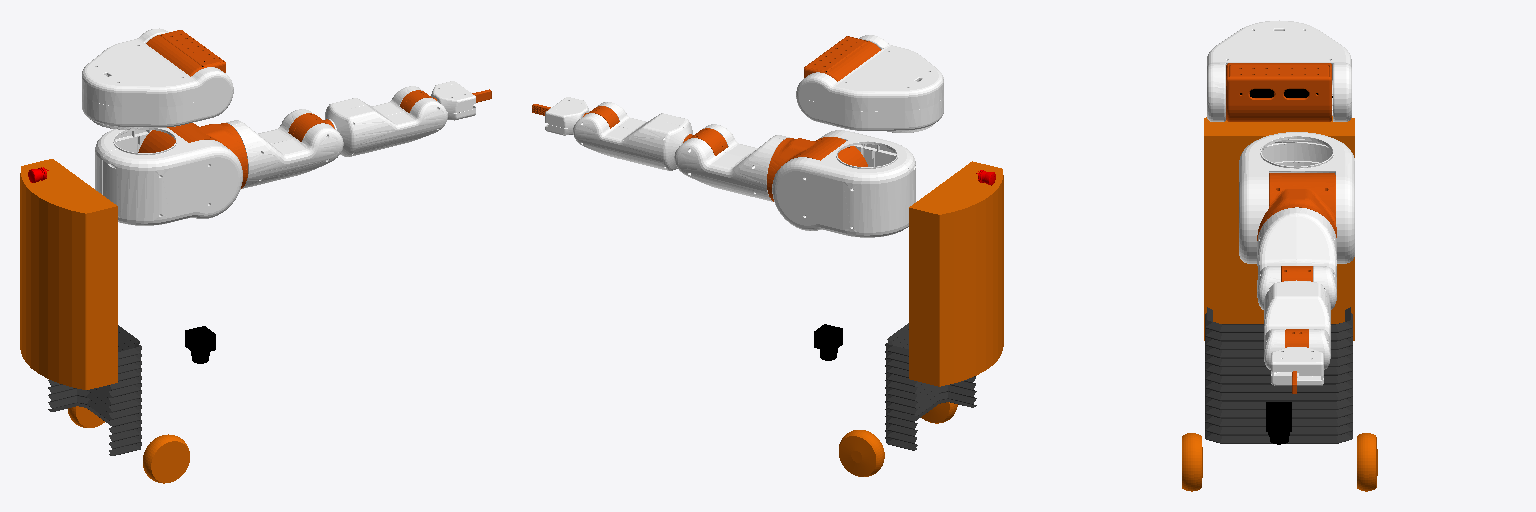
--- Render facts (derived) ---
Views: 3 orthographic renders of the robot side by side, from view 1: azimuth 30°, elevation 25°; view 2: azimuth 150°, elevation 25°; view 3: azimuth 270°, elevation 25°.
Model ubr1 with 27 links and 26 joints (7 revolute, 4 continuous, 4 prismatic, 11 fixed), rooted at base_link, posed all joints at 0.
Links seen in each view (by area): view 1: fixed_torso_link, shoulder_pan_link, head_pan_link, forearm_roll_link, bellows_link, upperarm_roll_link, shoulder_lift_link, head_tilt_link, right_wheel_link, gripper_link, base_laser_link, elbow_flex_link; view 2: fixed_torso_link, shoulder_pan_link, head_pan_link, forearm_roll_link, bellows_link, upperarm_roll_link, shoulder_lift_link, head_tilt_link, left_wheel_link, gripper_link, base_laser_link, elbow_flex_link; view 3: bellows_link, fixed_torso_link, shoulder_pan_link, head_pan_link, head_tilt_link, upperarm_roll_link, forearm_roll_link, shoulder_lift_link, gripper_link, right_wheel_link, left_wheel_link, base_laser_link.
Boxes of the visible links, <box> form: fixed_torso_link: <box>20,159,117,389</box>; shoulder_pan_link: <box>95,127,242,225</box>; head_pan_link: <box>82,28,233,129</box>; forearm_roll_link: <box>325,86,447,156</box>; bellows_link: <box>48,325,141,455</box>; upperarm_roll_link: <box>226,109,343,188</box>; shoulder_lift_link: <box>138,123,247,188</box>; head_tilt_link: <box>146,30,225,76</box>; right_wheel_link: <box>143,434,189,483</box>; gripper_link: <box>431,81,475,120</box>; base_laser_link: <box>185,326,215,363</box>; elbow_flex_link: <box>288,113,334,141</box>; fixed_torso_link: <box>909,161,1003,386</box>; shoulder_pan_link: <box>772,130,915,237</box>; head_pan_link: <box>796,35,943,132</box>; forearm_roll_link: <box>573,102,692,170</box>; bellows_link: <box>885,323,976,450</box>; upperarm_roll_link: <box>674,124,789,201</box>; shoulder_lift_link: <box>767,137,867,201</box>; head_tilt_link: <box>804,36,880,81</box>; left_wheel_link: <box>839,430,884,476</box>; gripper_link: <box>545,97,589,135</box>; base_laser_link: <box>814,324,842,360</box>; elbow_flex_link: <box>683,128,727,155</box>; bellows_link: <box>1205,307,1352,443</box>; fixed_torso_link: <box>1204,116,1354,340</box>; shoulder_pan_link: <box>1239,132,1354,263</box>; head_pan_link: <box>1207,20,1351,121</box>; head_tilt_link: <box>1226,63,1331,121</box>; upperarm_roll_link: <box>1257,207,1336,309</box>; forearm_roll_link: <box>1264,280,1330,369</box>; shoulder_lift_link: <box>1257,173,1336,240</box>; gripper_link: <box>1271,347,1323,385</box>; right_wheel_link: <box>1182,433,1202,491</box>; left_wheel_link: <box>1357,433,1377,491</box>; base_laser_link: <box>1266,402,1291,444</box>.
Size in the robot's own frame: 1.22 by 0.3811 by 0.9734 metres.
Meshes: 20 distinct files referenced, 18 mesh visuals loaded (17 binary STL); not drawn: 3 (reference not matched to a file when rendering).

robot.urdf — ubr1:
<?xml version="1.0" ?>
<robot name="ubr1">
  <link name="base_link">
    <visual>
      <origin rpy="0 0 0" xyz="0 0 0" />
      <geometry>
        <mesh filename="package://ubr1_description/meshes/base_link.STL" />
      </geometry>
      <material name="">
        <color rgba="1 1 1 1" />
      </material>
    </visual>
    <collision>
      <origin rpy="0 0 0" xyz="-0.2475 -0.2475 0" />
      <geometry>
        <mesh filename="package://ubr1_description/meshes/base_link_col.STL" />
      </geometry>
    </collision>
  </link>
  <link name="base_inertia">
    <!-- Hack around KDL issues -->
    <inertial>
      <origin rpy="0 0 0" xyz="0.0043027 -0.0000947 0.1492788" />
      <mass value="35.0237183" />
      <inertia ixx="0.2749377" ixy="-0.0002025" ixz="-0.0013661"
               iyy="0.2398372" iyz="-0.0004900"
               izz="5.3671008"/>
    </inertial>
  </link>
  <joint name="base_inertia_joint" type="fixed">
    <origin rpy="0 0 0" xyz="0 0 0" />
    <parent link="base_link" />
    <child link="base_inertia" />
  </joint>
  <link name="torso_lift_link">
    <inertial>
      <origin rpy="0 0 0" xyz="-0.060142360276412 0.00304133533168627 0.343272867034157" />
      <mass value="10.81628746254819" />
      <inertia ixx="0.0641960264706125" ixy="0.001128617953499" ixz="0.00203364821006436" iyy="0.061658561971383" iyz="-3.14401755382909E-05" izz="0.0376084656328484" />
    </inertial>
    <visual>
      <origin rpy="0 0 0" xyz="0 0 0" />
      <geometry>
        <mesh filename="package://ubr1_description/meshes/torso_lift_link.STL" />
      </geometry>
      <material name="">
        <color rgba="1 1 1 1" />
      </material>
    </visual>
    <collision>
      <origin rpy="0 0 0" xyz="0 -.02 0" />
      <geometry>
        <mesh filename="package://ubr1_description/meshes/torso_lift_link_col.STL" />
      </geometry>
    </collision>
  </link>
  <joint name="torso_lift_joint" type="prismatic">
    <origin rpy="2.4652E-32 0 0" xyz="-0.051533 0 0.26428" />
    <parent link="base_link" />
    <child link="torso_lift_link" />
    <axis xyz="0 0 1" />
    <limit effort="450" lower="0.0" upper="0.3556" velocity="0.1" />
    <calibration rising="0.0" />
    <dynamics damping="1000" />
  </joint>
  <link name="shoulder_pan_link">
    <inertial>
      <inertia ixx="0.04593" ixy="-0.00259" ixz="-3e-05" iyy="0.03667" iyz="-0.00031" izz="0.04858" />
      <mass value="6.39321" />
      <origin rpy="0.0 0.0 0.0" xyz="0.01775 -0.00868 -0.00471" />
    </inertial>
    <visual>
      <origin rpy="0 0 0" xyz="0 0 0" />
      <geometry>
        <mesh filename="package://ubr1_description/meshes/shoulder_pan_link.STL" />
      </geometry>
      <material name="">
        <color rgba="1 1 1 1" />
      </material>
    </visual>
    <collision>
      <origin rpy="0 0 0" xyz="0.0 0 0" />
      <geometry>
        <mesh filename="package://ubr1_description/meshes/shoulder_pan_link_col.STL" />
      </geometry>
    </collision>
  </link>
  <joint name="shoulder_pan_joint" type="revolute">
    <origin rpy="-2.4652E-32 0 0" xyz="0.11446 0.035 0.39613" />
    <parent link="torso_lift_link" />
    <child link="shoulder_pan_link" />
    <axis xyz="0 0 1" />
    <limit effort="6.712" lower="-1.3962634" upper="1.3962634" velocity="1.30899694" />
    <calibration rising="0.0" />
    <dynamics damping="0.7" />
  </joint>
  <link name="shoulder_lift_link">
    <inertial>
      <inertia ixx="0.01193" ixy="0.00013" ixz="-0.00026" iyy="0.00932" iyz="4e-05" izz="0.01415" /><mass value="3.57781" /><origin rpy="0.0 0.0 0.0" xyz="0.01595 0.01107 -0.01047" /></inertial>
    <visual>
      <origin rpy="0 0 0" xyz="0 0 0" />
      <geometry>
        <mesh filename="package://ubr1_description/meshes/shoulder_lift_link.STL" />
      </geometry>
      <material name="">
        <color rgba="0.874509803921569 0.352941176470588 0.0470588235294118 1" />
      </material>
    </visual>
    <collision>
      <origin rpy="0 0 0" xyz="0.0 0 0" />
      <geometry>
        <mesh filename="package://ubr1_description/meshes/shoulder_lift_link_col.STL" />
      </geometry>
    </collision>
  </link>
  <joint name="shoulder_lift_joint" type="revolute">
    <origin rpy="0 0 0" xyz="0.11 0 0" />
    <parent link="shoulder_pan_link" />
    <child link="shoulder_lift_link" />
    <axis xyz="0 1 0" />
    <limit effort="37.802" lower="-0.785398163" upper="1.34390352" velocity="1.30899694" />
    <calibration rising="0.0" />
    <dynamics damping="0.7" />
  </joint>
  <link name="upperarm_roll_link">
    <inertial>
      <origin rpy="0.0 0.0 0.0" xyz="0.08552 -0.00001 -0.00997" />
      <inertia ixx="0.00618" ixy="-0.00015" ixz="0.00105" iyy="0.01931" iyz="0.0" izz="0.02107" />
      <mass value="2.59549" />
    </inertial>
    <visual>
      <origin rpy="0 0 0" xyz="0 0 0" />
      <geometry>
        <mesh filename="package://ubr1_description/meshes/upperarm_roll_link.STL" />
      </geometry>
      <material name="">
        <color rgba="1 1 1 1" />
      </material>
    </visual>
    <collision>
      <origin rpy="0 0 0" xyz="0 0 -0.08" />
      <geometry>
        <mesh filename="package://ubr1_description/meshes/upperarm_roll_link_col.STL" />
      </geometry>
    </collision>
  </link>
  <joint name="upperarm_roll_joint" type="revolute">
    <origin rpy="0 0 0" xyz="0.11545 0 0" />
    <parent link="shoulder_lift_link" />
    <child link="upperarm_roll_link" />
    <axis xyz="1 0 0" />
    <limit effort="12.97" lower="-3.92699082" upper="0.785398163" velocity="2.0943951" />
    <calibration rising="0.0" />
    <dynamics damping="0.7" />
  </joint>
  <link name="elbow_flex_link">
    <inertial>
      <inertia ixx="0.00134" ixy="1e-05" ixz="-1e-05" iyy="0.00135" iyz="0.0" izz="0.00214" />
      <mass value="1.18183" />
      <origin rpy="0.0 0.0 0.0" xyz="-0.01618 0.00090 0.00033" />
    </inertial>
    <visual>
      <origin rpy="0 0 0" xyz="0 0 0" />
      <geometry>
        <mesh filename="package://ubr1_description/meshes/elbow_flex_link.STL" />
      </geometry>
      <material name="">
        <color rgba="0.874509803921569 0.352941176470588 0.0470588235294118 1" />
      </material>
    </visual>
    <collision>
      <origin rpy="1.57 0 0" xyz="0.0 0 0" />
      <geometry>
        <cylinder length="0.05" radius="0.045"/>
      </geometry>
    </collision>
  </link>
  <joint name="elbow_flex_joint" type="revolute">
    <origin rpy="0 0 0" xyz="0.20955 0 0" />
    <parent link="upperarm_roll_link" />
    <child link="elbow_flex_link" />
    <axis xyz="0 1 0" />
    <limit effort="13.518" lower="-2.0943951" upper="0.0" velocity="1.30899694" />
    <calibration rising="0.0" />
    <dynamics damping="0.7" />
  </joint>
  <link name="forearm_roll_link">
    <inertial>
      <inertia ixx="0.00215" ixy="-3e-05" ixz="-0.00018" iyy="0.00589" iyz="0.0" izz="0.00659" />
      <mass value="1.61673" />
      <origin rpy="0.0 0.0 0.0" xyz="0.10890 -0.00049 -0.01352" />
    </inertial>
    <visual>
      <origin rpy="0 0 0" xyz="0 0 0" />
      <geometry>
        <mesh filename="package://ubr1_description/meshes/forearm_roll_link.STL" />
      </geometry>
      <material name="">
        <color rgba="1 1 1 1" />
      </material>
    </visual>
    <collision>
      <!--<origin rpy="0 0 0" xyz="0.14 0 -0.005" />
      <geometry>
        <box size="0.275 0.15 0.10"/>
      </geometry>-->
      <origin rpy="0 0 0" xyz="0 0 0" />
      <geometry>
        <mesh filename="package://ubr1_description/meshes/forearm_roll_link_col.STL" />
      </geometry>
    </collision>
  </link>
  <joint name="forearm_roll_joint" type="continuous">
    <origin rpy="0 0 0" xyz="0.0455000000000001 0 0" />
    <parent link="elbow_flex_link" />
    <child link="forearm_roll_link" />
    <axis xyz="1 0 0" />
    <limit effort="3.166" velocity="2.0943951" />
    <calibration rising="0.0" />
    <dynamics damping="0.7" />
  </joint>
  <link name="wrist_flex_link">
    <inertial>
      <inertia ixx="0.00028" ixy="0.0" ixz="0.0" iyy="0.00018" iyz="0.0" izz="0.00032" />
      <mass value="0.46911" />
      <origin rpy="0.0 0.0 0.0" xyz="0.00360 -0.00013 0.00004" />
    </inertial>
    <visual>
      <origin rpy="0 0 0" xyz="0 0 0" />
      <geometry>
        <mesh filename="package://ubr1_description/meshes/wrist_flex_link.STL" />
      </geometry>
      <material name="">
        <color rgba="0.874509803921569 0.352941176470588 0.0470588235294118 1" />
      </material>
    </visual>
    <collision>
      <origin rpy="1.57 0 0" xyz="0.0 0 0" />
      <geometry>
        <cylinder length="0.05" radius="0.04125"/>
      </geometry>
    </collision>
  </link>
  <joint name="wrist_flex_joint" type="revolute">
    <origin rpy="0 0 0" xyz="0.2345 0 0" />
    <parent link="forearm_roll_link" />
    <child link="wrist_flex_link" />
    <axis xyz="0 1 0" />
    <limit effort="4.543" lower="-2.26892803" upper="0.0" velocity="2.0943951" />
    <calibration rising="0.0" />
    <dynamics damping="0.7" />
  </joint>
  <link name="wrist_roll_link">
    <!--<inertial>
      <origin rpy="0 0 0" xyz="0 0 0" />
      <mass value="0.01" />
      <inertia ixx="0.000002"  ixy="0"  ixz="0"
               iyy="0.00004"  iyz="0"
               izz="0.00004" />
    </inertial>-->
    <visual>
      <origin rpy="0 1.57 0" xyz="0 0 0" />
      <geometry>
        <cylinder length="0.05" radius="0.02"/>
      </geometry>
      <material name="">
        <color rgba="1 1 1 1" />
      </material>
    </visual>
    <collision>
      <origin rpy="0 1.57 0" xyz="0.0 0.0 0" />
      <geometry>
        <cylinder length="0.05" radius="0.02"/>
      </geometry>
    </collision>
  </link>
  <joint name="wrist_roll_joint" type="continuous">
    <origin rpy="0 0 0" xyz="0.0406 0 0" />
    <parent link="wrist_flex_link" />
    <child link="wrist_roll_link" />
    <axis xyz="1 0 0" />
    <limit effort="1.0" velocity="2.0943951" />
    <calibration rising="0.0" />
    <dynamics damping="0.7" />
  </joint>

  <link name="head_pan_link">
    <inertial>
      <origin rpy="0 0 0" xyz="0.03590 -0.02334 -0.00837" />
      <mass value="2.83708" />
      <inertia ixx="0.01624779629"  ixy="-0.00016395194"  ixz="0.00001236518"
               iyy="0.01221529906"  iyz="0.00044617693"
               izz="0.02259698742" />
    </inertial>
    <visual>
      <origin rpy="0 0 0" xyz="0 0 0" />
      <geometry>
        <mesh filename="package://ubr1_description/meshes/head_pan_link.STL" />
      </geometry>
      <material name="">
        <color rgba="1 1 1 1" />
      </material>
    </visual>
    <collision>
      <origin rpy="0 0 0" xyz="0.06 0 0.01" />
      <geometry>
        <box size="0.30 0.29 0.11"/>
      </geometry>
    </collision>
  </link>
  <joint name="head_pan_joint" type="revolute">
    <origin rpy="-2.46519032881566E-32 0 0" xyz="0.0388331045334431 0 0.643775" />
    <parent link="torso_lift_link" />
    <child link="head_pan_link" />
    <axis xyz="0 0 1" />
    <limit effort="8.55" lower="-1.57079633" upper="1.57079633" velocity="1.18682389" />
    <calibration rising="0.0" />
    <dynamics damping="0.7" />
  </joint>
  <link name="head_tilt_link">
    <inertial>
      <origin rpy="0 0 0" xyz="0.03670 -0.00247 0.04661" />
      <mass value="1.33203" />
      <inertia ixx="0.00792164189"  ixy="0.00056884845"   ixz="0.00186657783"
               iyy="0.00520291759"  iyz="0.00082595410"
               izz="0.00625497628" />
    </inertial>
    <visual>
      <origin rpy="0 0 0" xyz="0 0 0" />
      <geometry>
        <mesh filename="package://ubr1_description/meshes/head_tilt_link.STL" />
      </geometry>
      <material name="">
        <color rgba="0.874509803921569 0.352941176470588 0.0470588235294118 1" />
      </material>
    </visual>
    <collision>
      <origin rpy="0 0 0" xyz="0 0 0" />
      <geometry>
        <box size="0.10 0.29 0.10"/>
      </geometry>
    </collision>
  </link>
  <joint name="head_tilt_joint" type="revolute">
    <origin rpy="0 0 0" xyz="0.1524 0 0.0073" />
    <parent link="head_pan_link" />
    <child link="head_tilt_link" />
    <axis xyz="0 1 0" />
    <limit effort="7.6" lower="-0.785398163" upper="1.57079633" velocity="1.18682389" />
    <calibration rising="0.0" />
    <dynamics damping="0.7" />
  </joint>
  <link name="head_camera_link">
    <inertial>
      <origin rpy="0 0 0" xyz="0.00178948803750542 0.00293228933526682 -0.00126569018604761" />
      <mass value="0.15791194679459" />
      <inertia ixx="0.000410373133213838" ixy="-4.65746959126115E-06" ixz="1.54869804665117E-06"
               iyy="2.66787966300267E-05" iyz="-8.80223403267447E-06"
               izz="0.000415197483134736" />
    </inertial>
    <visual>
      <origin rpy="0 0 0" xyz="0 0 0" />
      <geometry>
        <mesh filename="package://ubr1_description/meshes/head_camera_link.STL" />
      </geometry>
      <material name="">
        <color rgba="0 0 0 1" />
      </material>
    </visual>
    <collision>
      <origin rpy="0 0 0" xyz="0.0 0.0 0" />
      <geometry>
        <box size="0.01 0.01 0.01"/>
      </geometry>
    </collision>
  </link>
  <joint name="head_camera_joint" type="fixed">
    <origin rpy="0 0 0" xyz="0.03475 0 0.022877" />
    <parent link="head_tilt_link" />
    <child link="head_camera_link" />
    <axis xyz="0 0 0" />
  </joint>

  <link name="head_camera_rgb_frame" />
  <joint name="head_camera_rgb_joint" type="fixed">
    <origin xyz="0.02 0.02 0" rpy="0 0 0"/>
    <parent link="head_camera_link" />
    <child link="head_camera_rgb_frame" />
  </joint>

  <link name="head_camera_rgb_optical_frame" />
  <joint name="head_camera_rgb_optical_joint" type="fixed">
    <origin xyz="0 0 0" rpy="-1.57079632679 0 -1.57079632679" />
    <parent link="head_camera_rgb_frame" />
    <child link="head_camera_rgb_optical_frame" />
  </joint>

  <link name="head_camera_depth_frame" />
  <joint name="head_camera_depth_joint" type="fixed">
    <origin xyz="0.02 0.045 0" rpy="0 0 0" />
    <parent link="head_camera_link" />
    <child link="head_camera_depth_frame" />
  </joint>

  <link name="head_camera_depth_optical_frame" />
  <joint name="head_camera_depth_optical_joint" type="fixed">
    <origin xyz="0 0 0" rpy="-1.57079632679 0 -1.57079632679" />
    <parent link="head_camera_depth_frame" />
    <child link="head_camera_depth_optical_frame" />
  </joint>

  <link name="estop_link">
    <inertial>
      <origin rpy="0 0 0" xyz="-6.39117272993595E-09 1.30867278759217E-05 0.0263084007038297" />
      <mass value="0.00196130439130725" />
      <inertia ixx="3.14705392512728E-07" ixy="-4.08544353458379E-12" ixz="2.20397665051664E-13"
               iyy="3.14452534479207E-07" iyz="-4.49188364721138E-10"
               izz="1.95488289214464E-07" />
    </inertial>
    <visual>
      <origin rpy="0 0 0" xyz="0 0 0" />
      <geometry>
        <mesh filename="package://ubr1_description/meshes/estop_link.STL" />
      </geometry>
      <material name="">
        <color rgba="1 0 0 1" />
      </material>
    </visual>
    <collision>
      <origin rpy="0 0 0" xyz="0.0 0.0 0" />
      <geometry>
        <box size="0.01 0.01 0.01"/>
      </geometry>
    </collision>
  </link>
  <joint name="estop_joint" type="fixed">
    <origin rpy="1.5708 -0.047415 -1.5708" xyz="-0.15995 0 0.4859" />
    <parent link="torso_lift_link" />
    <child link="estop_link" />
    <axis xyz="0 0 1" />
  </joint>
  <link name="bellows_link">
    <inertial>
      <origin rpy="0 0 0" xyz="-4.95346061296346E-08 0.123400904659858 0.0107781507059864" />
      <mass value="0.1" />
      <inertia ixx="0.000408561556131289" ixy="3.9348438720509E-09" ixz="2.76652370410412E-11"
               iyy="0.000721553598298091" iyz="3.35031527267575E-07"
               izz="0.00103695967363802" />
    </inertial>
    <visual>
      <origin rpy="0 0 0" xyz="0 0 0" />
      <geometry>
        <mesh filename="package://ubr1_description/meshes/bellows_link.STL" />
      </geometry>
      <material name="">
        <color rgba="0.250980392156863 0.250980392156863 0.250980392156863 1" />
      </material>
    </visual>
    <collision>
      <origin rpy="0 0 0" xyz="0.0 0.0 0" />
      <geometry>
        <box size="0.01 0.01 0.01"/>
      </geometry>
    </collision>
  </link>
  <joint name="bellows_joint" type="prismatic">
    <origin rpy="1.5708 -2.4652E-32 -1.5708" xyz="0.0047367 0 -0.1823" />
    <parent link="torso_lift_link" />
    <child link="bellows_link" />
    <axis xyz="0 1 0" />
    <limit effort="25.0" lower="-0.1778" upper="0.0" velocity="0.0" />
    <calibration rising="0.0" />
    <dynamics damping="0.7" />
  </joint>
  <link name="fixed_bellows_link">
    <inertial>
      <origin rpy="0 0 0" xyz="-4.95346056930955E-08 0.123400904659858 0.0107781507059864" />
      <mass value="0.0636200134411883" />
      <inertia ixx="0.000408561556131288" ixy="3.93484387266685E-09" ixz="2.76652374600841E-11"
               iyy="0.000721553598298089" iyz="3.35031527267454E-07"
               izz="0.00103695967363802" />
    </inertial>
    <visual>
      <origin rpy="0 0 0" xyz="0 0 0" />
      <geometry>
        <mesh filename="package://ubr1_description/meshes/bellows_link.STL" />
      </geometry>
      <material name="">
        <color rgba="0.250980392156863 0.250980392156863 0.250980392156863 1" />
      </material>
    </visual>
    <collision>
      <origin rpy="0 0 0" xyz="0.0 0.0 0" />
      <geometry>
        <box size="0.01 0.01 0.01"/>
      </geometry>
    </collision>
  </link>
  <joint name="fixed_bellows_joint" type="fixed">
    <origin rpy="1.5708 -2.4652E-32 -1.5708" xyz="0.0047367 0 -0.1823" />
    <parent link="torso_lift_link" />
    <child link="fixed_bellows_link" />
  </joint>
  <link name="fixed_torso_link">
    <inertial>
      <origin rpy="0 0 0" xyz="0.12118 0.55187 -0.00188" />
      <mass value="7.19400" />
      <inertia ixx="0.16941095831" ixy="-0.00114443001"   ixz="0.00090167218"
               iyy="0.15113888533" iyz="-0.00744737659"
               izz="0.04165307088" />
    </inertial>
    <visual>
      <origin rpy="0 0 0" xyz="0 0 0" />
      <geometry>
        <mesh filename="package://ubr1_description/meshes/fixed_torso_link.STL" />
      </geometry>
      <material name="">
        <color rgba="0.909803921568627 0.443137254901961 0.0313725490196078 1" />
      </material>
    </visual>
    <collision>
      <origin rpy="0 0 0" xyz="0.13 0.45 0" />
      <geometry>
        <box size="0.20 0.40 0.32"/>
      </geometry>
    </collision>
  </link>
  <joint name="fixed_torso_joint" type="fixed">
    <origin rpy="1.5708 0 3.1416" xyz="0 0 0" />
    <parent link="base_link" />
    <child link="fixed_torso_link" />
    <axis xyz="0 0 0" />
  </joint>
  <link name="right_wheel_link">
    <inertial>
      <origin rpy="0 0 0" xyz="-1.64014810163652E-10 0.00025233203864472 -2.77555756156289E-17" />
      <mass value="0.680549565836583" />
      <inertia ixx="0.000516152001969145" ixy="2.81654304441038E-14" ixz="-1.48432572797365E-22"
               iyy="0.000867209455065921" iyz="-1.17328198292256E-12"
               izz="0.000516152001737231" />
    </inertial>
    <visual>
      <origin rpy="0 0 0" xyz="0 0 0" />
      <geometry>
        <mesh filename="package://ubr1_description/meshes/right_wheel_link.STL" />
      </geometry>
      <material name="">
        <color rgba="0.909803921568627 0.443137254901961 0.0313725490196078 1" />
      </material>
    </visual>
    <collision>
      <origin rpy="1.57 0 0" xyz="0 0 0" />
      <geometry>
        <cylinder length="0.03" radius="0.06"/>
      </geometry>
    </collision>
  </link>
  <joint name="base_r_wheel_joint" type="continuous">
    <origin rpy="0 0 0" xyz="0 -0.17 0.05675" />
    <parent link="base_link" />
    <child link="right_wheel_link" />
    <axis xyz="0 1 0" />
    <limit effort="12.0" velocity="20.0" />
    <calibration rising="0.0" />
    <dynamics damping="0.5" />
  </joint>
  <link name="left_wheel_link">
    <inertial>
      <origin rpy="0 0 0" xyz="-1.64014810154732E-10 0.000252332038644693 -2.77555756156289E-17" />
      <mass value="0.680549565836583" />
      <inertia ixx="0.000516152001969145" ixy="2.81654302730693E-14" ixz="-1.39880007920223E-22"
               iyy="0.000867209455065921" iyz="-1.17328198291752E-12"
               izz="0.000516152001737231" />
    </inertial>
    <visual>
      <origin rpy="0 0 0" xyz="0 0 0" />
      <geometry>
        <mesh filename="package://ubr1_description/meshes/left_wheel_link.STL" />
      </geometry>
      <material name="">
        <color rgba="0.909803921568627 0.443137254901961 0.0313725490196078 1" />
      </material>
    </visual>
    <collision>
      <origin rpy="1.57 0 0" xyz="0 0 0" />
      <geometry>
        <cylinder length="0.03" radius="0.06"/>
      </geometry>
    </collision>
  </link>
  <joint name="base_l_wheel_joint" type="continuous">
    <origin rpy="0 0 0" xyz="0 0.17 0.05675" />
    <parent link="base_link" />
    <child link="left_wheel_link" />
    <axis xyz="0 1 0" />
    <limit effort="12.0" velocity="20.0" />
    <calibration rising="0.0" />
    <dynamics damping="0.5" />
  </joint>
  <link name="base_laser_link">
    <inertial>
      <origin rpy="0 0 0" xyz="-2.77555756156289E-17 2.24932874362996E-18 0.0202675371573463" />
      <mass value="0.13945214558184" />
      <inertia ixx="7.38616097495533E-05" ixy="3.43625778332246E-08" ixz="1.18982532649698E-21"
               iyy="7.38616097495533E-05" iyz="2.6318307602024E-21"
               izz="5.02435312332874E-05" />
    </inertial>
    <visual>
      <origin rpy="-3.14159265359 0 0" xyz="0 0 0" />
      <geometry>
        <mesh filename="package://ubr1_description/meshes/base_laser_link.STL" />
      </geometry>
      <material name="">
        <color rgba="0 0 0 1" />
      </material>
    </visual>
    <collision>
      <origin rpy="0 0 0" xyz="0.0 0.0 0" />
      <geometry>
        <box size="0.01 0.01 0.01"/>
      </geometry>
    </collision>
  </link>
  <joint name="base_laser_joint" type="fixed">
    <origin rpy="3.14159265359 0 -2.2204E-16" xyz="0.18683 0 0.21048" />
    <parent link="base_link" />
    <child link="base_laser_link" />
    <axis xyz="0 0 0" />
  </joint>


  <!-- default gripper -->
  <link name="gripper_link">
    <inertial>
      <inertia ixx="0.00039" ixy="0.0" ixz="0.0" iyy="0.00039" iyz="-1e-05" izz="0.00066" />
      <mass value="0.4218" />
      <origin rpy="0.0 0.0 0.0" xyz="0.04724 0.00159 0.00064" />
    </inertial>
    <visual>
      <origin rpy="0 0 0" xyz="0 0 0" />
      <geometry>
        <mesh filename="package://ubr1_description/meshes/gripper_link.STL" />
      </geometry>
      <material name="">
        <color rgba="1 1 1 1" />
      </material>
    </visual>
    <collision>
      <origin rpy="0 0 0" xyz="0 0 0" />
      <geometry>
        <mesh filename="package://ubr1_description/meshes/gripper_link_col.STL" />
      </geometry>
    </collision>
  </link>
  <joint name="gripper_joint" type="fixed">
    <origin rpy="0 0 0" xyz="0 0 0" />
    <parent link="wrist_roll_link" />
    <child link="gripper_link" />
    <axis xyz="0 0 0" />
  </joint>
  <link name="right_gripper_finger_link">
    <inertial>
      <origin rpy="0 0 0" xyz="0.00180634193065077 -0.00507960988304032 1.82718525310044E-07" />
      <mass value="0.00805661879107867" />
      <!-- Inertial matrix ixx/iyy/izz increased to make gazebo happy -->
      <inertia ixx="5.11986641952728E-03" ixy="3.30246887636314E-09" ixz="-1.19155944238838E-12"
               iyy="2.94192790473005E-03" iyz="7.56098476735154E-12"
               izz="2.63439556818182E-03" />
    </inertial>
    <visual>
      <origin rpy="0 0 0" xyz="0 0 0" />
      <geometry>
        <mesh filename="package://ubr1_description/meshes/right_gripper_finger_link.STL" />
      </geometry>
      <material name="">
        <color rgba="0.874509803921569 0.352941176470588 0.0470588235294118 1" />
      </material>
    </visual>
    <collision>
      <origin rpy="0 0 0" xyz="0 -0.005 0" />
      <geometry>
        <box size="0.06 0.01 0.022" />
      </geometry>
    </collision>
  </link>
  <joint name="right_gripper_joint" type="prismatic">
    <origin rpy="0 0 0" xyz="0.111 0 0" />
    <parent link="gripper_link" />
    <child link="right_gripper_finger_link" />
    <axis xyz="0 -1 0" />
    <limit effort="28.0" lower="0.0" upper="0.046" velocity="0.1" />
    <calibration rising="0.0" />
    <dynamics damping="2500" />
  </joint>
  <link name="left_gripper_finger_link">
    <inertial>
      <origin rpy="0 0 0" xyz="0.00180634285159509 0.00507961002244872 -1.82994932651503E-07" />
      <mass value="0.00805661848049576" />
      <!-- Inertial matrix ixx/iyy/izz increased to make gazebo happy -->
      <inertia ixx="5.11986620594033E-03" ixy="-3.30249741353407E-09" ixz="1.24817528594142E-12"
               iyy="2.94192770039741E-03" iyz="7.56956725380165E-12"
               izz="2.63439537656996E-03" />
    </inertial>
    <visual>
      <origin rpy="0 0 0" xyz="0 0 0" />
      <geometry>
        <mesh filename="package://ubr1_description/meshes/left_gripper_finger_link.STL" />
      </geometry>
      <material name="">
        <color rgba="0.874509803921569 0.352941176470588 0.0470588235294118 1" />
      </material>
    </visual>
    <collision>
      <origin rpy="0 0 0" xyz="0 0.005 0" />
      <geometry>
        <box size="0.06 0.01 0.022" />
      </geometry>
    </collision>
  </link>
  <joint name="left_gripper_joint" type="prismatic">
    <origin rpy="0 0 0" xyz="0.111 0 0" />
    <parent link="gripper_link" />
    <child link="left_gripper_finger_link" />
    <axis xyz="0 1 0" />
    <limit effort="28.0" lower="0.0" upper="0.045" velocity="0.1" />
    <calibration rising="0.0" />
    <dynamics damping="2500" />
  </joint>


</robot>
